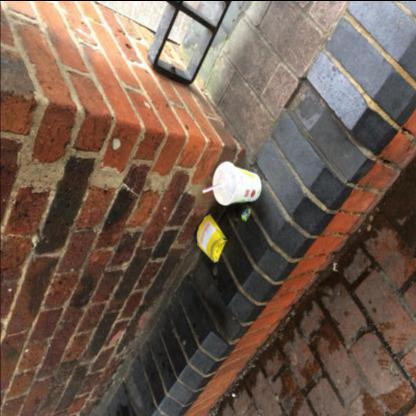Carton: (196, 213, 228, 261)
Cup: (212, 161, 260, 205)
Lid: (212, 161, 238, 205)
Other plastic: (334, 262, 338, 270)
Plastic bag - wrapper: (241, 206, 250, 221)
Straw: (202, 181, 224, 192)
